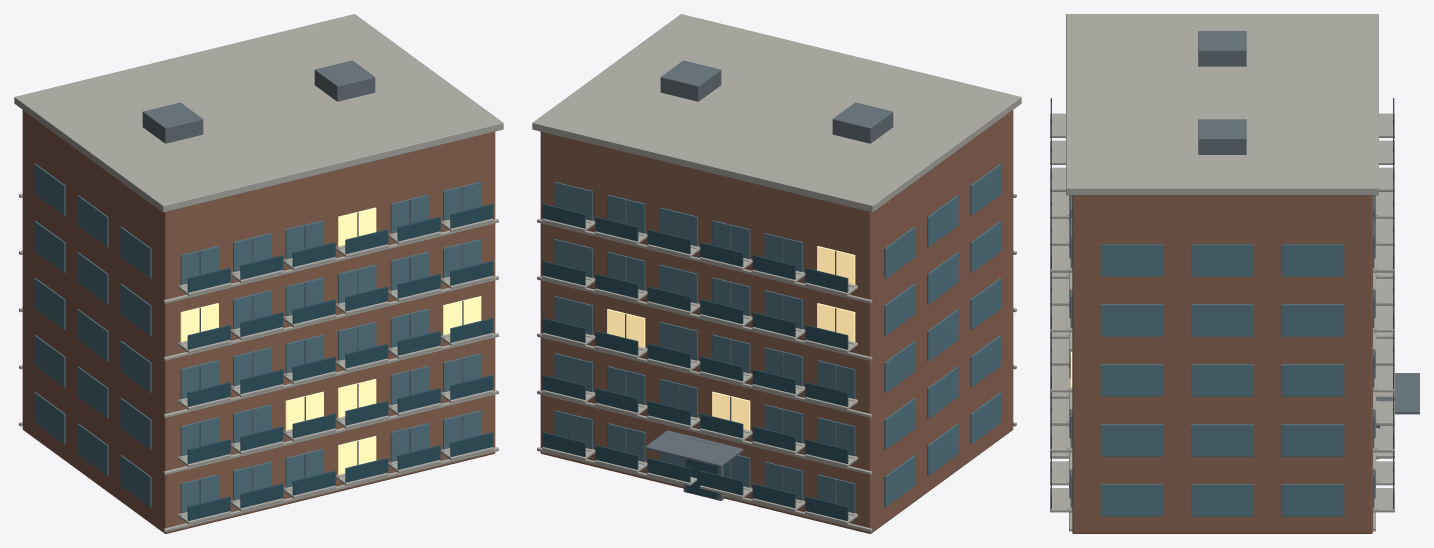
File: Apartment.fbx
3 renders of one model, left to right at view 1: azimuth 30°, elevation 25°; view 2: azimuth 150°, elevation 25°; view 3: azimuth 270°, elevation 25°, orthographic. The views are drawn at different scales.
Visible parts, largest first — view 1: Body.034; view 2: Body.034; view 3: Body.034.
Part boxes in pixels (x1,y1,x2,y2): Body.034: [14, 14, 503, 533]; Body.034: [532, 14, 1021, 533]; Body.034: [1050, 14, 1419, 533].
Size of the model in its own units: 20.6 by 20.1 by 18.46.
